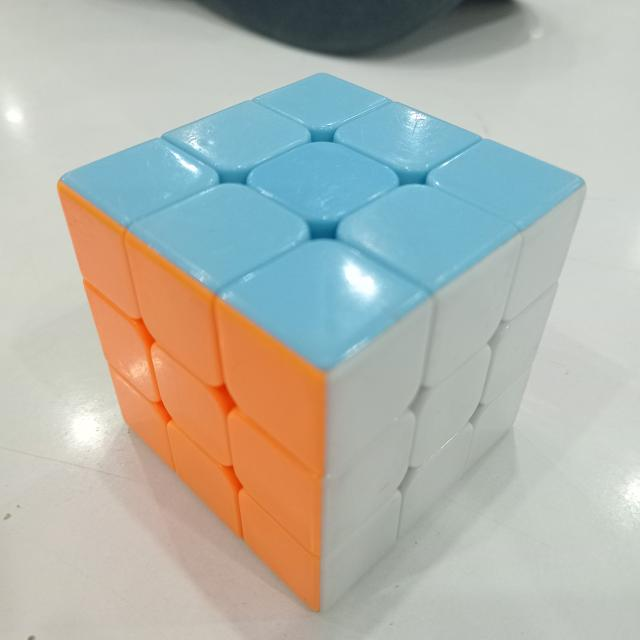back: (60, 73, 585, 368)
left: (57, 181, 324, 611)
rubik: (50, 70, 592, 621)
up: (320, 185, 586, 611)
